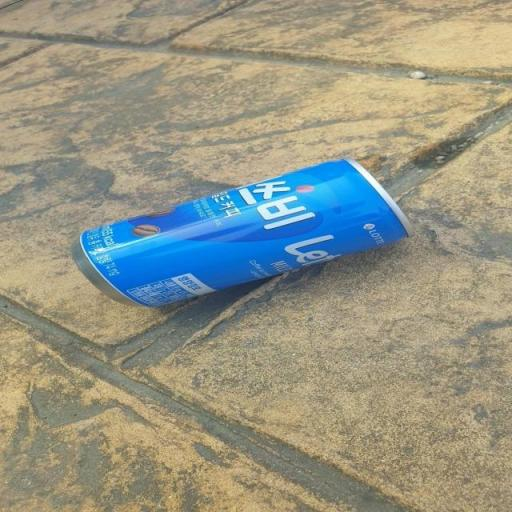metal: (9, 155, 432, 315)
